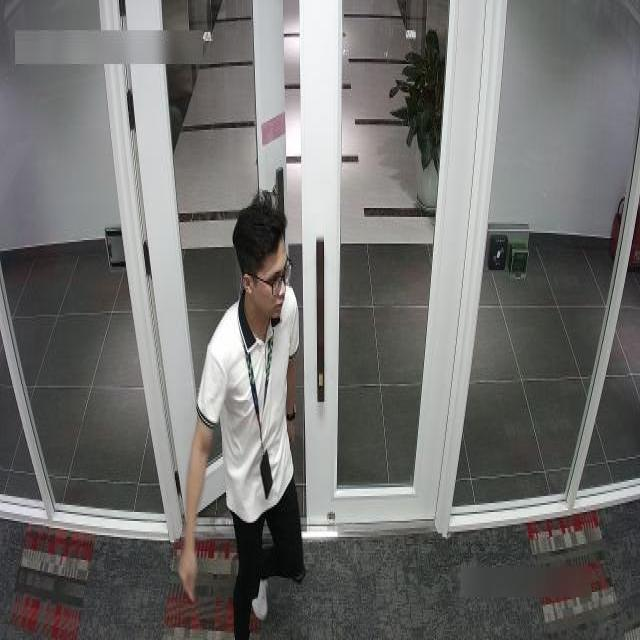bare_hand: (175, 535, 206, 610)
